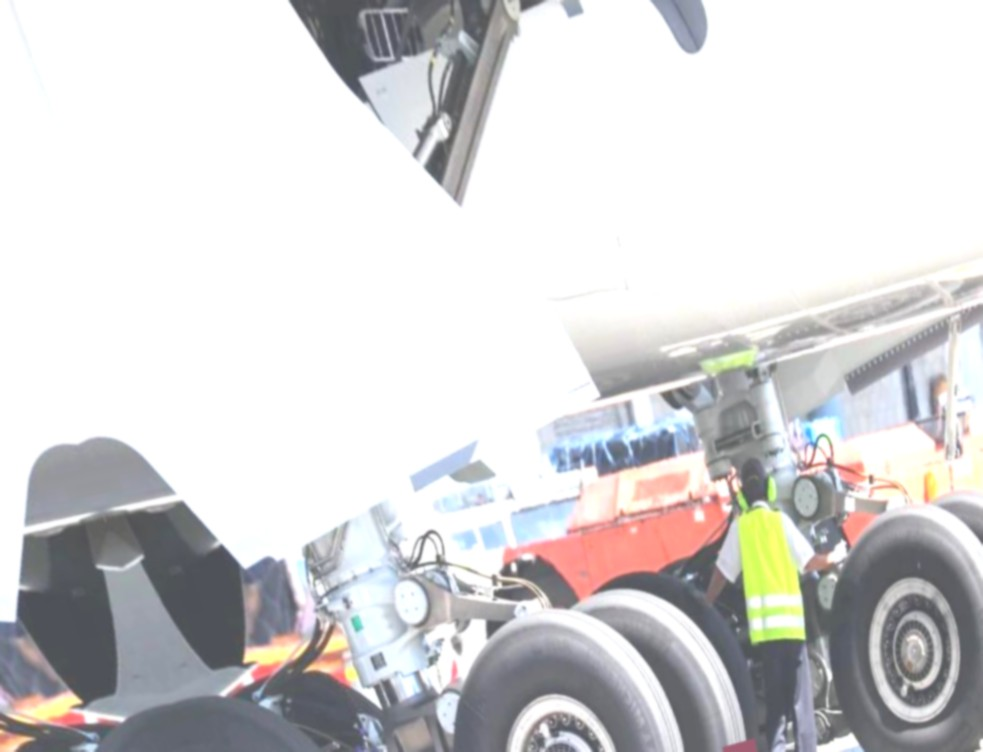wheel: (411, 571, 718, 752), (806, 476, 983, 752), (548, 555, 772, 752), (220, 641, 458, 752), (167, 658, 406, 752), (919, 465, 983, 751), (484, 546, 584, 632)
